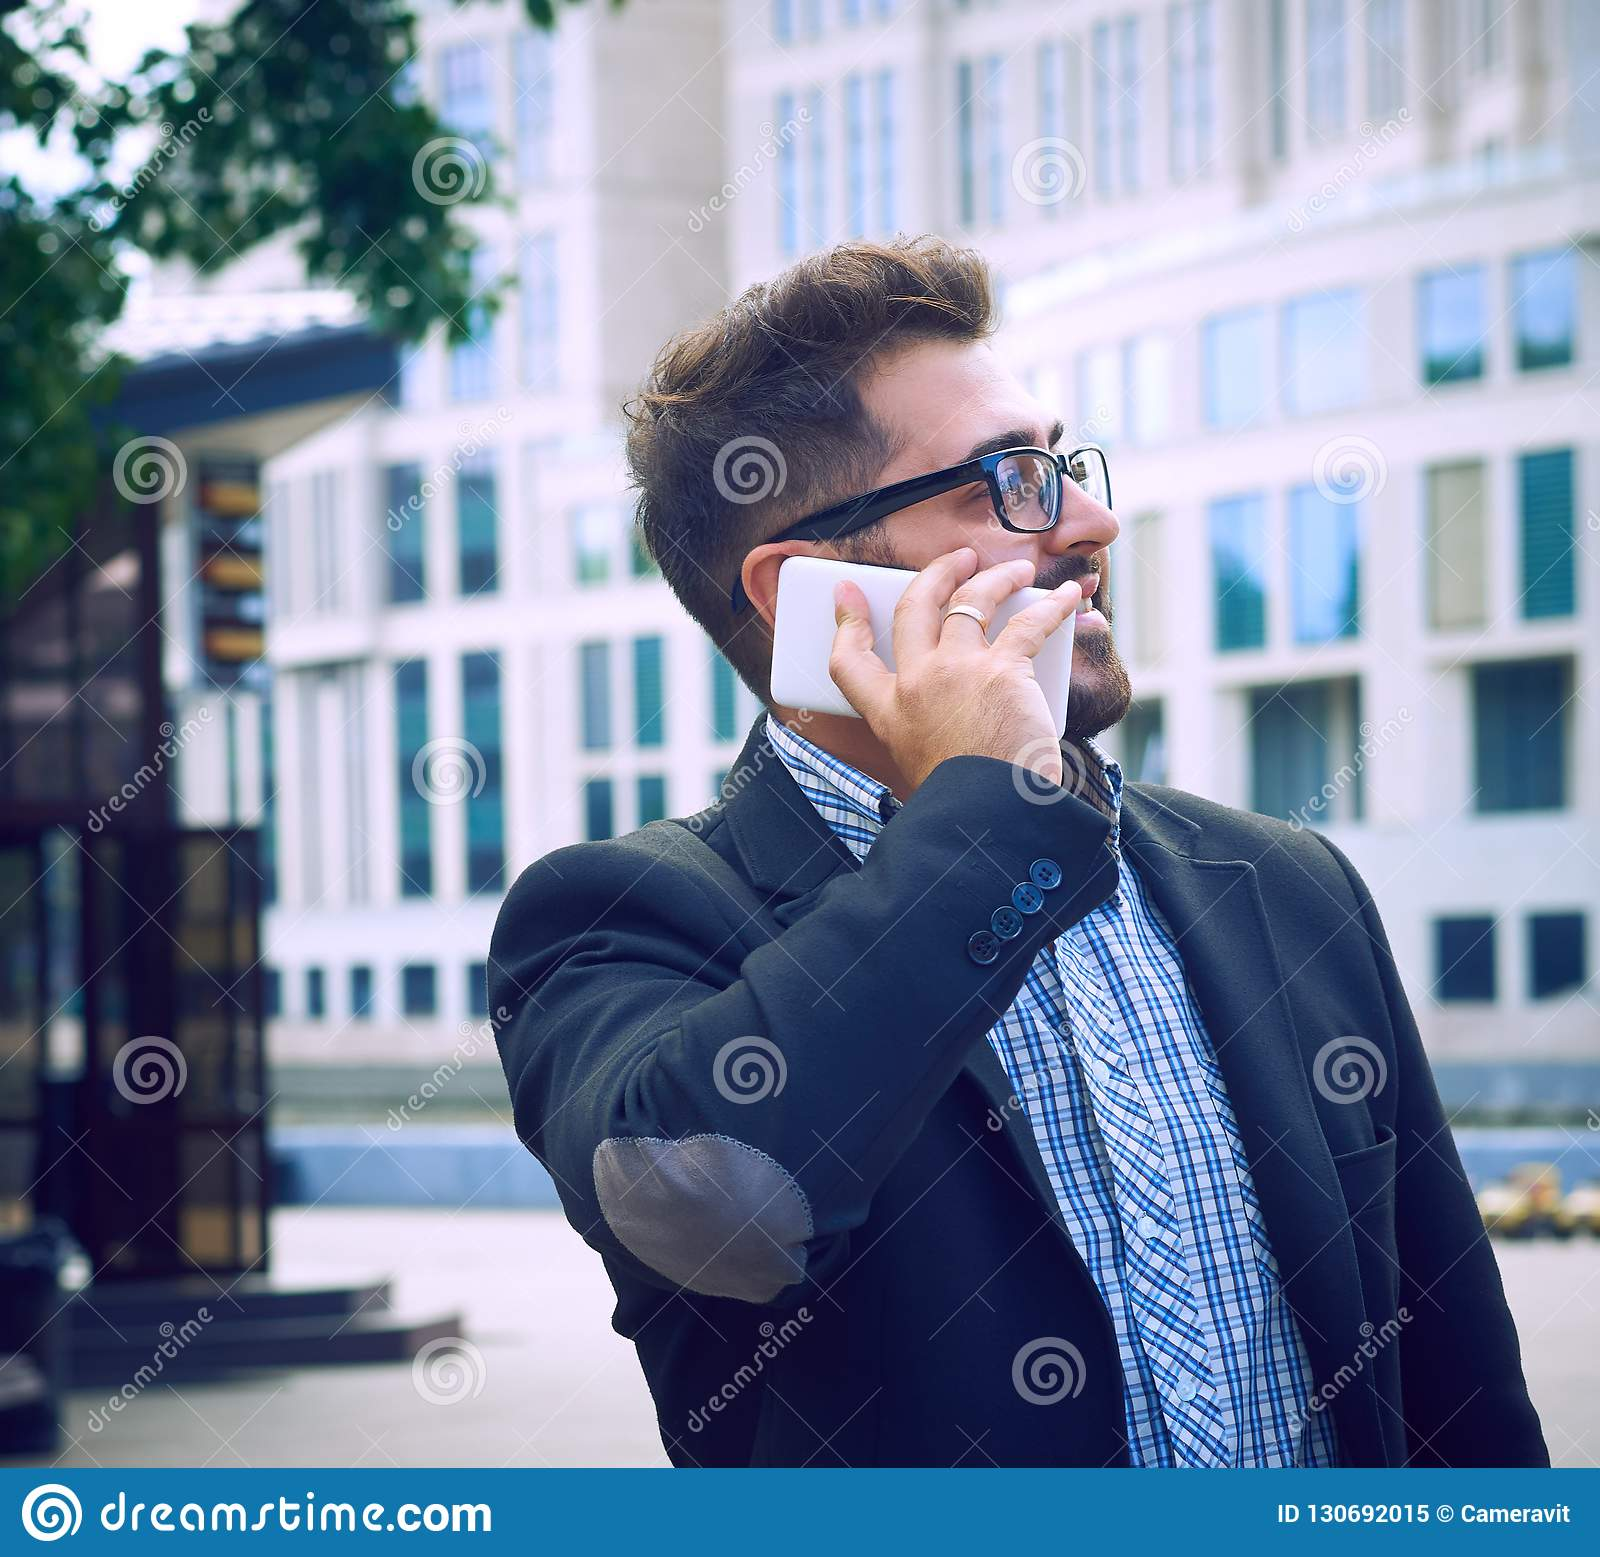phone: (764, 526, 1093, 767)
talk: (759, 410, 1146, 818)
